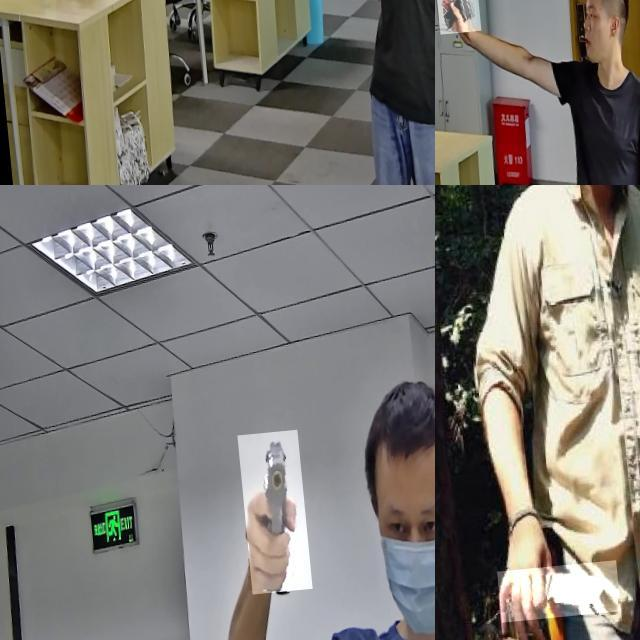-: (487, 567, 610, 627)
gun-knife-thesis - v11 Yolov5 augmented: (232, 436, 304, 600), (322, 0, 370, 51), (435, 0, 477, 46)
